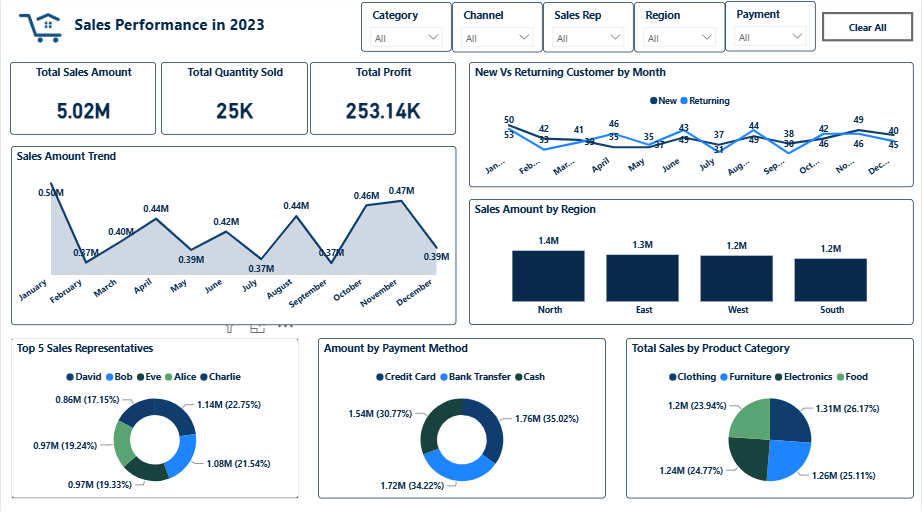

This screenshot's page, from the dashboard's own definition file:
{"tool":"powerbi","page":{"name":"Sales Analysis","canvas":[1280,720],"ordinal":1},"visuals":[{"type":"textbox","box":[97.1,18.8,317.5,60.9],"z":0},{"type":"slicer","fields":{"Values":["Sales Data.Payment_Method"]},"box":[1005.9,6.9,125.7,69.7],"z":1000},{"type":"clusteredColumnChart","title":"Sales Amount by Region","fields":{"Category":["Sales Data.Region"],"Y":["Sum(Sales Data.Sales_Amount)"]},"box":[650.9,282.7,617.5,175.4],"z":2000},{"type":"donutChart","title":"Top 5 Sales Representatives","fields":{"Category":["Sales Data.Sales_Rep"],"Y":["Sum(Sales Data.Sales_Amount)"]},"box":[14.5,475.5,400.1,223.2],"z":3000},{"type":"pieChart","title":"Total Sales by Product Category","fields":{"Category":["Sales Data.Product_Category"],"Y":["Sum(Sales Data.Sales_Amount)"]},"box":[868.3,475.5,400.1,223.2],"z":4000},{"type":"lineChart","title":"New Vs Returning Customer by Month","fields":{"Category":["Sales Data.Sale_Date.Variation.Date Hierarchy.Month"],"Y":["CountNonNull(Sales Data.Customer_Type)"],"Series":["Customer Type.Customer_Type"]},"box":[650.9,91.3,617.5,174],"z":5000},{"type":"card","title":"Total Sales Amount","fields":{"Values":["Sum(Sales Data.Sales_Amount)"]},"box":[13,91.3,202.9,101.5],"z":6000},{"type":"card","title":"Total Quantity Sold","fields":{"Values":["Sum(Sales Data.Quantity_Sold)"]},"box":[221.8,91.3,204.4,101.5],"z":7000},{"type":"card","title":"Total Profit","fields":{"Values":["Sum(Sales Data.Unit_Profit)"]},"box":[429.1,91.3,202.9,101.5],"z":8000},{"type":"lineChart","title":"Sales Amount Trend","fields":{"Category":["Sales Data.Sale_Date.Variation.Date Hierarchy.Month"],"Y":["Sum(Sales Data.Sales_Amount)"]},"box":[14.5,208.7,619,249.3],"z":9000},{"type":"donutChart","title":"Amount by Payment Method","fields":{"Category":["Sales Data.Payment_Method"],"Y":["Sum(Sales Data.Sales_Amount)"]},"box":[440.7,475.5,400.1,223.2],"z":10000},{"type":"slicer","fields":{"Values":["Sales Data.Product_Category"]},"box":[501,8,125.9,69.2],"z":11000},{"type":"slicer","fields":{"Values":["Sales Data.Sales_Channel"]},"box":[626.9,8,125.9,70],"z":12000},{"type":"slicer","fields":{"Values":["Sales Data.Sales_Rep"]},"box":[752.8,8,125.9,70],"z":13000},{"type":"slicer","fields":{"Values":["Sales Data.Region"]},"box":[879.2,7.9,126.7,69.7],"z":14000},{"type":"image","box":[14.3,9,82.4,73.4],"z":15000},{"type":"actionButton","box":[1141.2,22.2,126.8,40.8],"z":16000}]}

Visuals, with their boxes in screenshot pixels (x1, y1, x2, y2), scaled from the page's 1280x720 canvas onto the 922x512 screenshot:
textbox: crop(70, 13, 299, 57)
slicer - Sales Data.Payment_Method: crop(725, 5, 815, 54)
"Sales Amount by Region" clusteredColumnChart: crop(469, 201, 914, 326)
"Top 5 Sales Representatives" donutChart: crop(10, 338, 299, 497)
"Total Sales by Product Category" pieChart: crop(625, 338, 914, 497)
"New Vs Returning Customer by Month" lineChart: crop(469, 65, 914, 189)
"Total Sales Amount" card: crop(9, 65, 156, 137)
"Total Quantity Sold" card: crop(160, 65, 307, 137)
"Total Profit" card: crop(309, 65, 455, 137)
"Sales Amount Trend" lineChart: crop(10, 148, 456, 326)
"Amount by Payment Method" donutChart: crop(317, 338, 606, 497)
slicer - Sales Data.Product_Category: crop(361, 6, 452, 55)
slicer - Sales Data.Sales_Channel: crop(452, 6, 542, 55)
slicer - Sales Data.Sales_Rep: crop(542, 6, 633, 55)
slicer - Sales Data.Region: crop(633, 6, 725, 55)
image: crop(10, 6, 70, 59)
actionButton: crop(822, 16, 913, 45)
